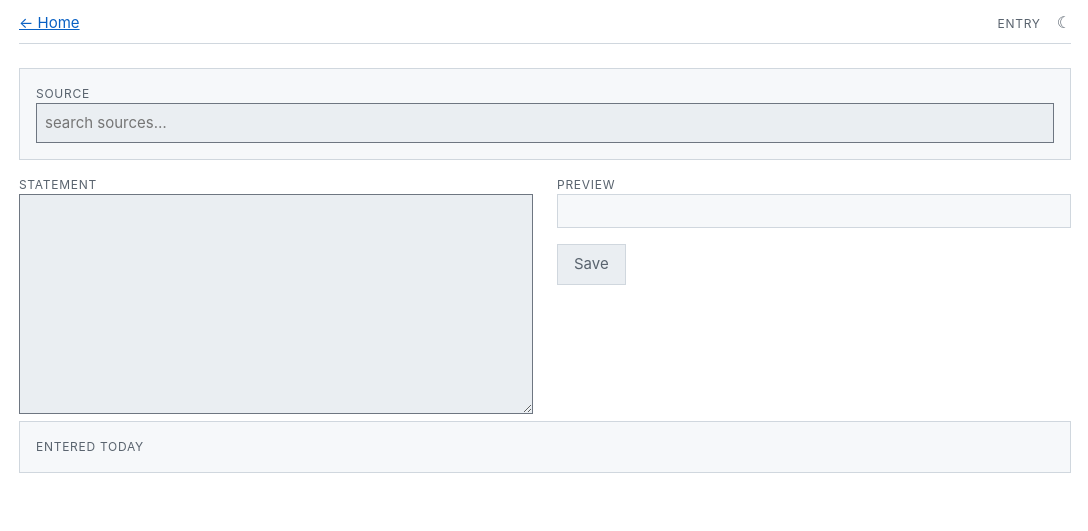
the entry screen › hides the edit and delete controls on a note that has a placement
Type "ridd" into the field labelled "search sources" at point(545, 123), box [36,102,1054,143]
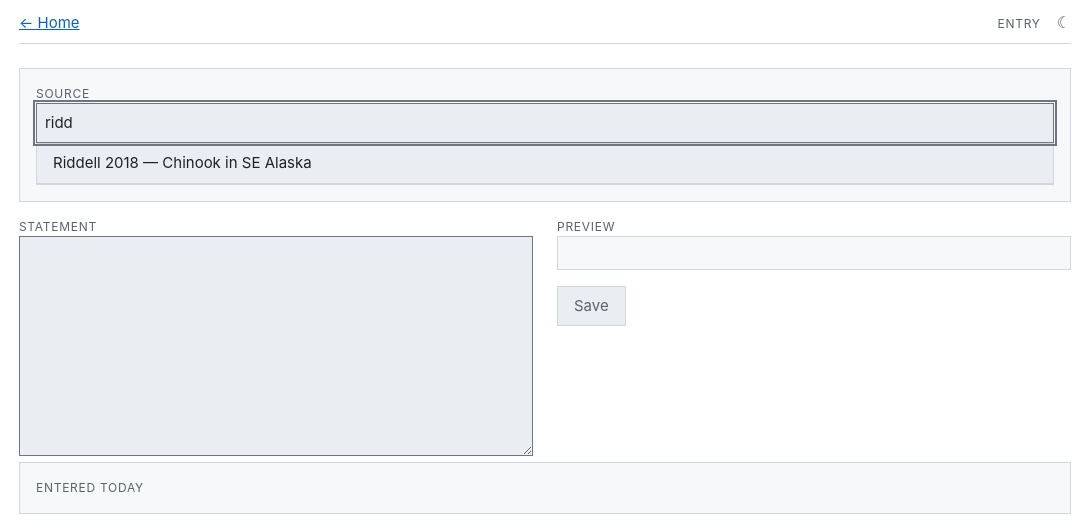
Click the button "Riddell 2018 — Chinook in SE Alaska" at point(182, 162), box [37,144,1053,184]
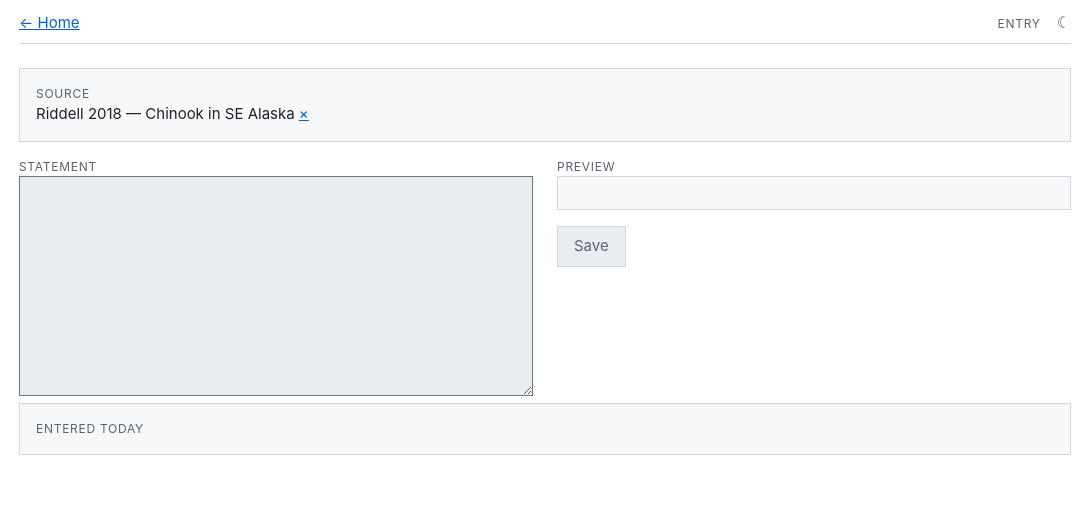
Type "anything" into the text box named "statement" at point(276, 286), box [19,176,533,396]
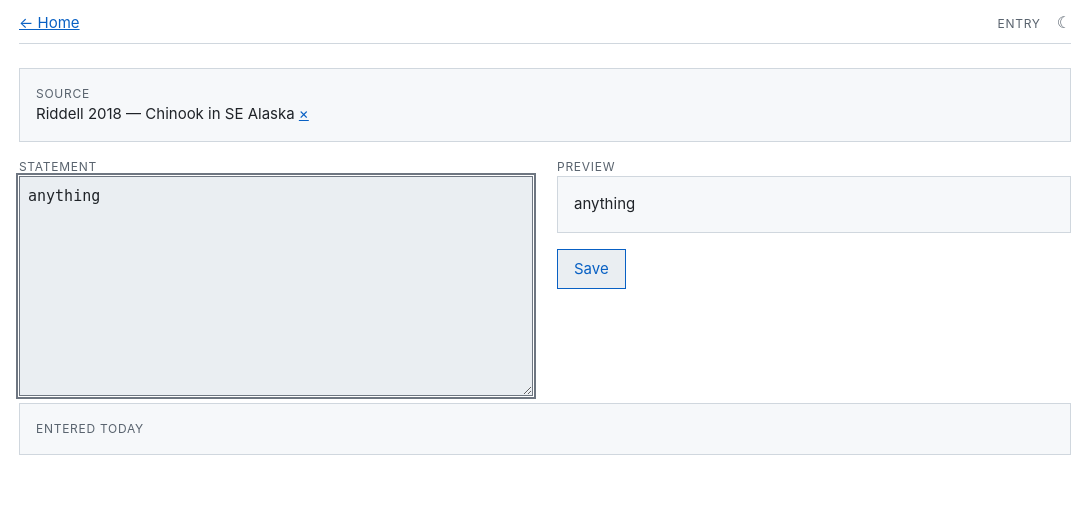
Click the button "Save" at point(591, 269), box [557,248,626,289]
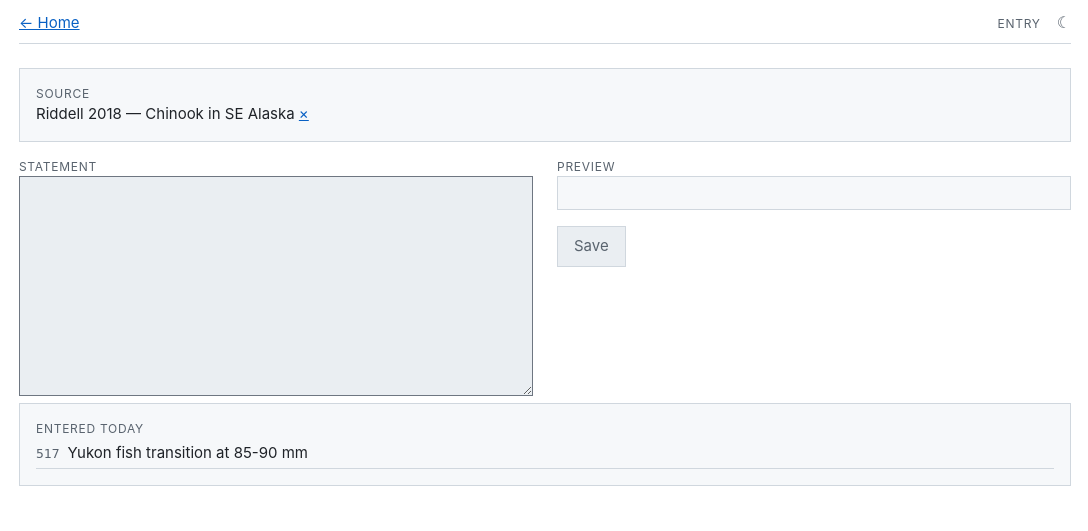
Now the text "517" is shown, box [36,444,60,463]
